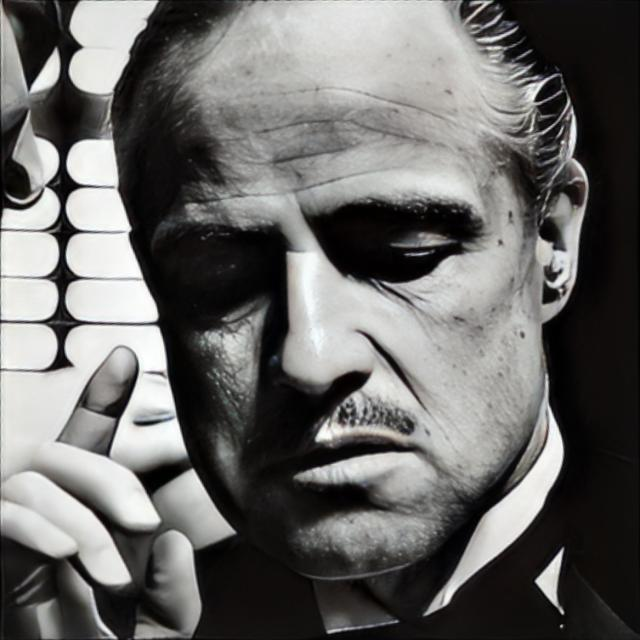sad: (110, 0, 534, 580)
